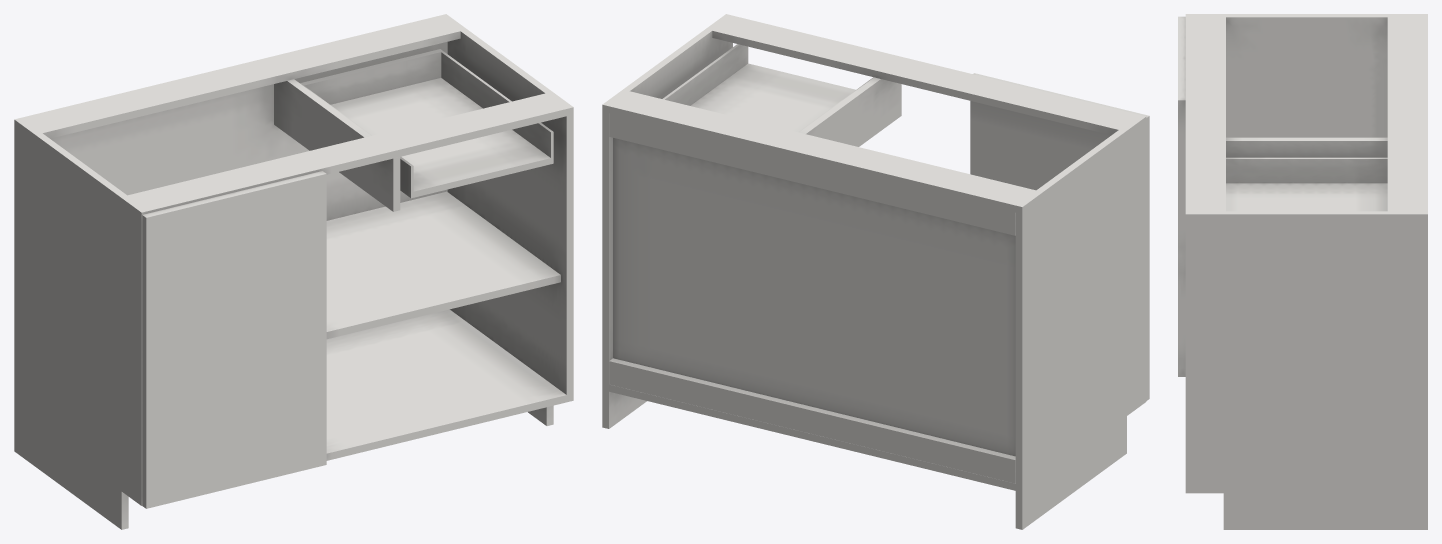
The model's file is blind-corner-1-drawer-base-doors-off.glb.
The picture shows the model from 3 angles, left to right: view 1: azimuth 30°, elevation 25°; view 2: azimuth 150°, elevation 25°; view 3: azimuth 270°, elevation 25°; orthographic projection. The views are drawn at different scales.
Visible parts, largest first — view 1: part_0, part_12; view 2: part_0, part_12; view 3: part_0, part_12.
Boxes of the visible parts, box(x1,y1,x2,y2) form: part_0: box(14, 14, 573, 529); part_12: box(300, 49, 553, 198); part_0: box(602, 14, 1149, 529); part_12: box(662, 44, 873, 132); part_0: box(1178, 14, 1427, 529); part_12: box(1226, 157, 1387, 211).
Bounding box in the file's own units: 1.19 × 0.8763 × 0.6289.
2 materials, 1 textured.
